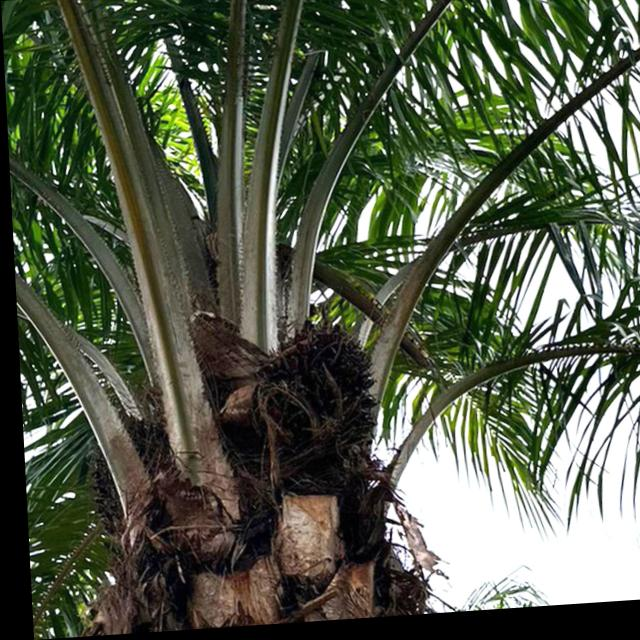ripe: (259, 316, 368, 441)
